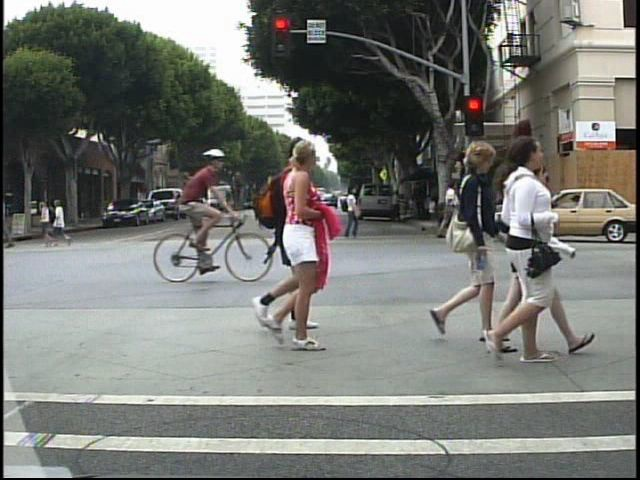person: (488, 136, 569, 375), (418, 135, 506, 347), (257, 138, 331, 356), (487, 158, 553, 360), (262, 149, 316, 345), (162, 145, 234, 272), (335, 181, 369, 243), (435, 177, 463, 242), (390, 187, 405, 223)
